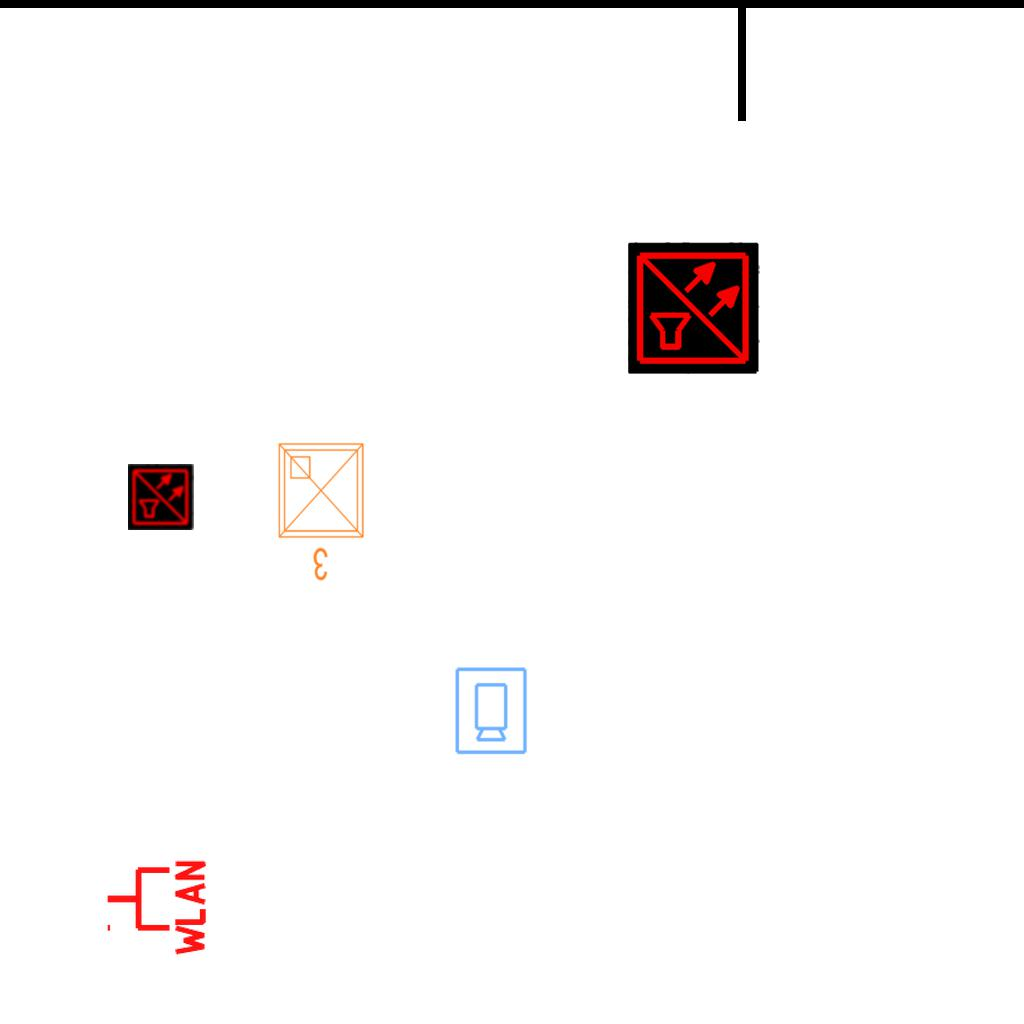Einbaudownlights_LED_Konferenzraeume: (271, 436, 375, 586)
KFO_Kamera_mit_Festobjektiv: (452, 665, 529, 756)
OKW_Multisensormelder_(Kombination_optischer_Rauch-Kahlenmonoxid_Waerme-Melder): (628, 242, 760, 374), (128, 464, 194, 530)
WLAN: (103, 856, 208, 960)
